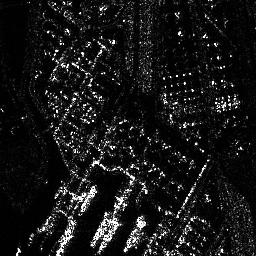ship: (124, 212, 146, 254), (97, 221, 119, 253), (90, 212, 109, 248), (79, 185, 97, 216), (54, 235, 74, 256)
